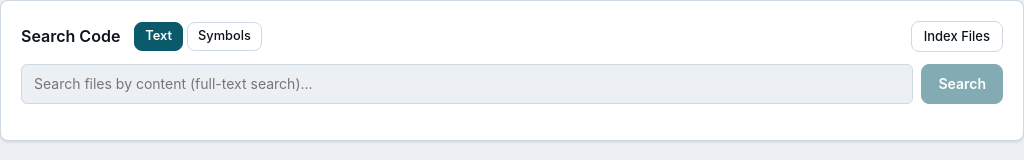
SearchTab — no mojibake in user-visible text (H-Phase-A cycle 16) › the indexed-stats badge uses a real middle dot, not a double-encoded artifact
Click the button "Index Files": [957, 36] box [911, 21, 1003, 52]
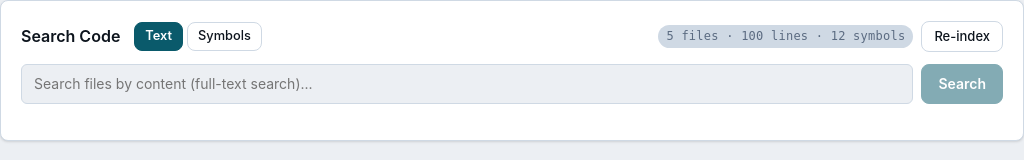
Check: the text "5 files · 100 lines · 12 symbols" is shown, box [658, 25, 913, 48]
